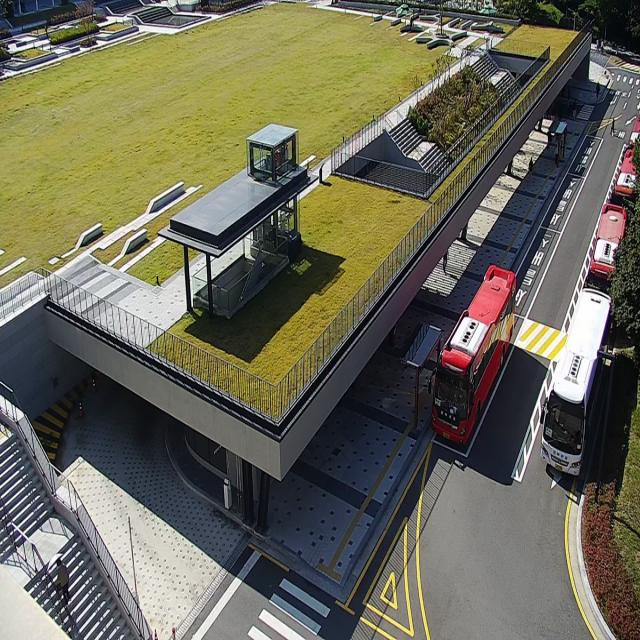queue: (410, 329, 440, 435)
